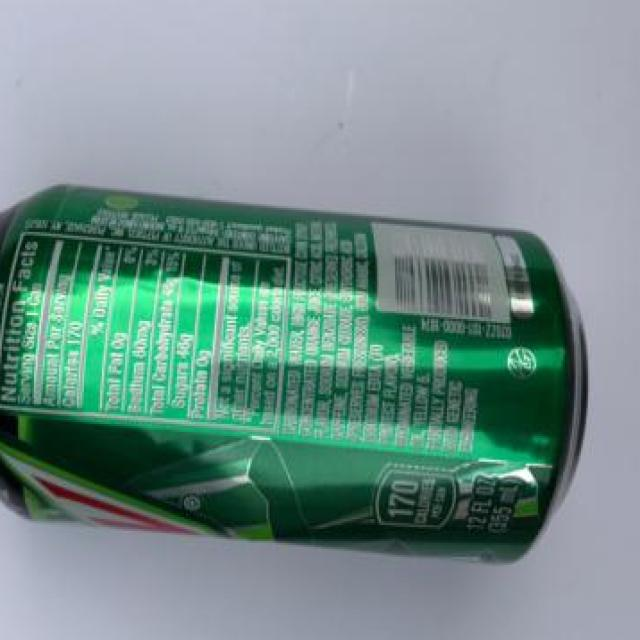organic: (4, 161, 568, 567)
